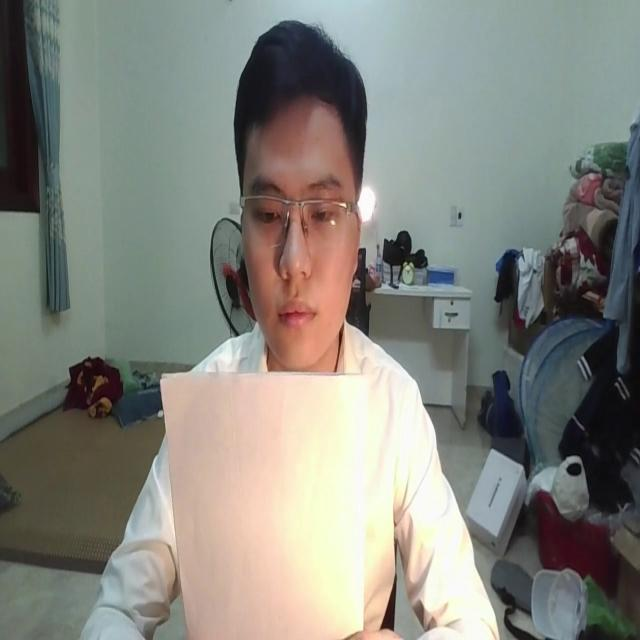book: (161, 366, 375, 640)
student: (168, 21, 496, 640)
